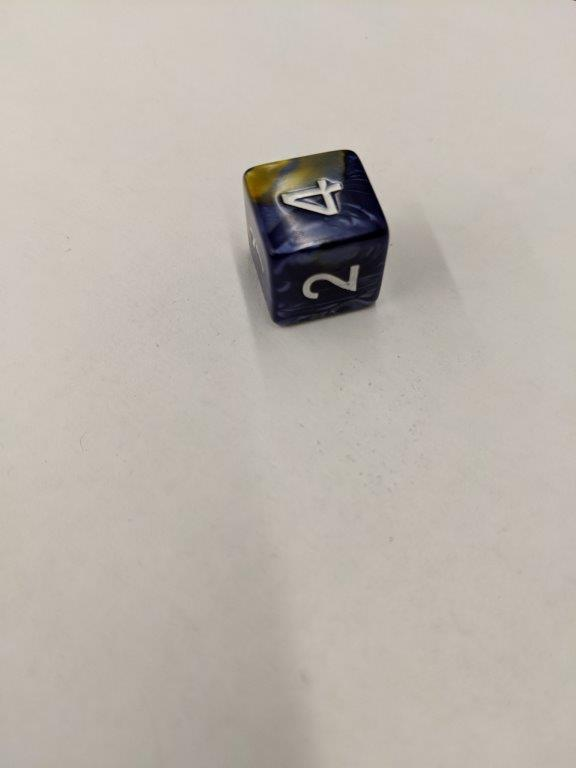d6-4: (243, 144, 390, 331)
